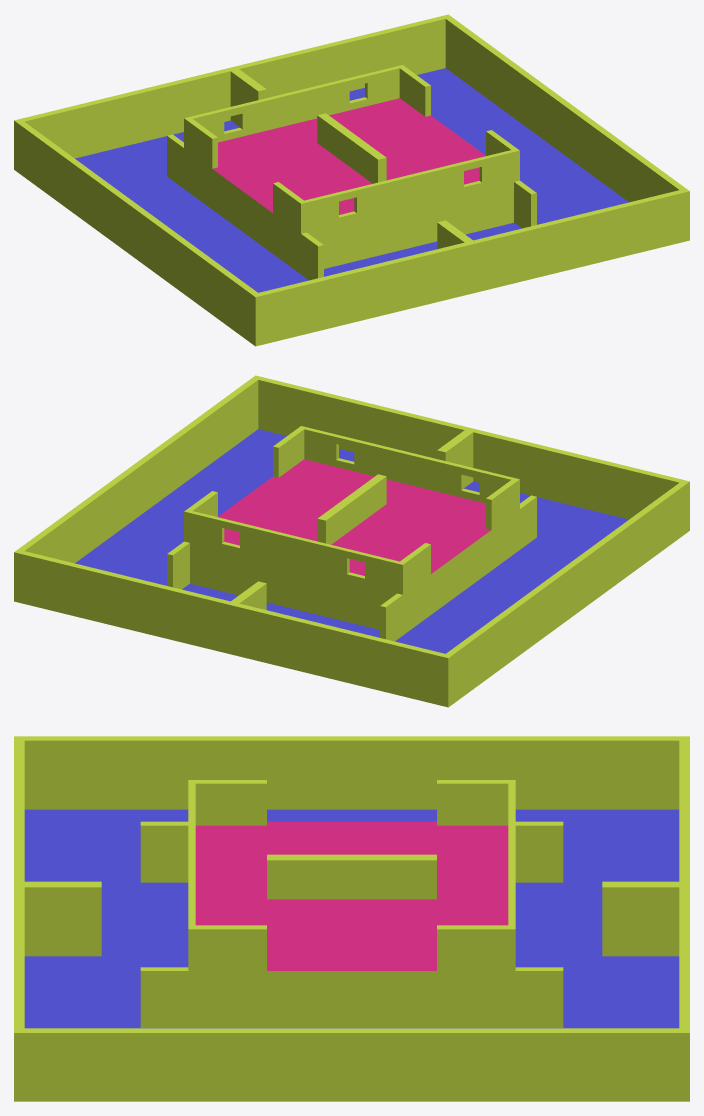
Rendered from MAPA.fbx.
3 views of the same model, one above another, from view 1: azimuth 30°, elevation 25°; view 2: azimuth 150°, elevation 25°; view 3: azimuth 270°, elevation 25° (orthographic). The views are drawn at different scales.
Parts seen in each view (by area): view 1: Plane; view 2: Plane; view 3: Plane.
Part boxes in pixels (left/top/right/bottom): Plane: left=14, top=14, right=689, bottom=346; Plane: left=14, top=375, right=689, bottom=707; Plane: left=14, top=736, right=689, bottom=1101.
Bounding box in the file's own units: 4154 × 646 × 4000.
